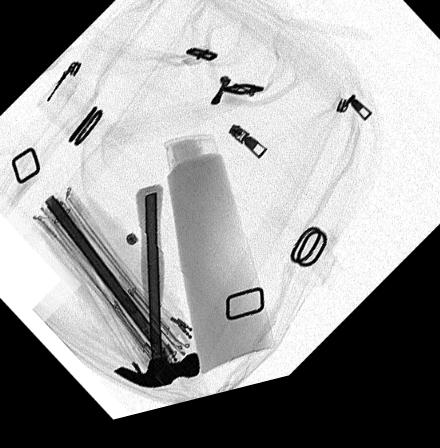Hammer: (111, 190, 200, 396)
